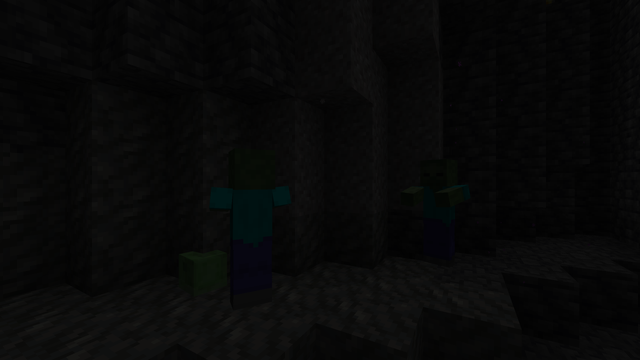slimes: (176, 249, 210, 296)
zombies: (216, 151, 282, 317), (419, 161, 455, 269)
